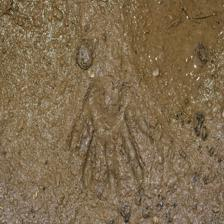raccoon: (69, 58, 165, 207)
